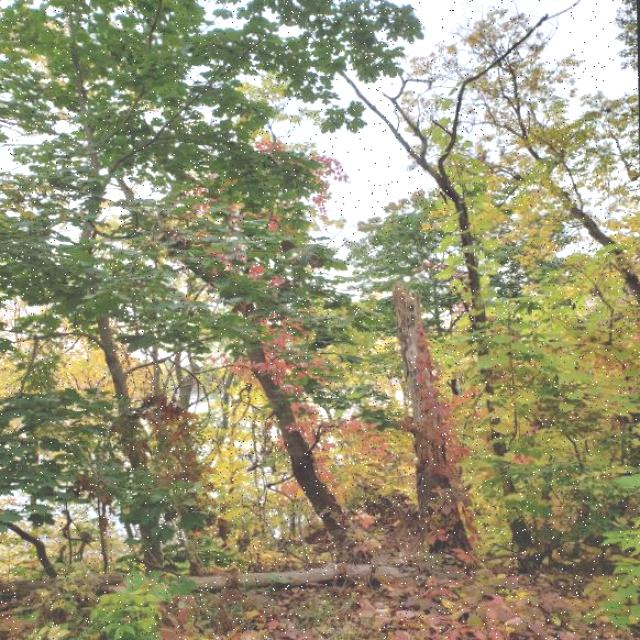fallen_object: (0, 541, 441, 618)
